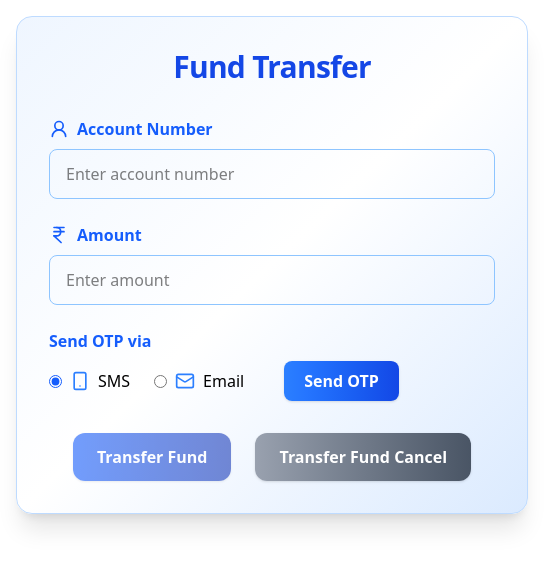
it: FundTransfer Component › shows account number format validation error
The width and height of the screenshot is (545, 572).
Type "123" into the field with placeholder "Enter account number" at (272, 174), box x1=49 y1=149 x2=495 y2=199
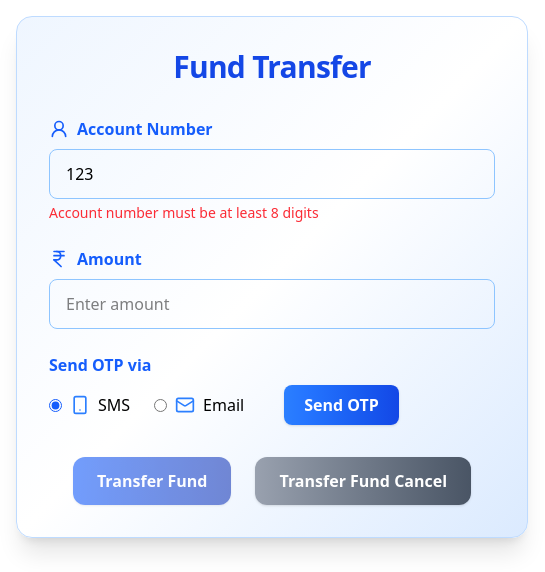
Expected: the text "Account number must be at least 8 digits" is shown, x1=49 y1=203 x2=319 y2=222
